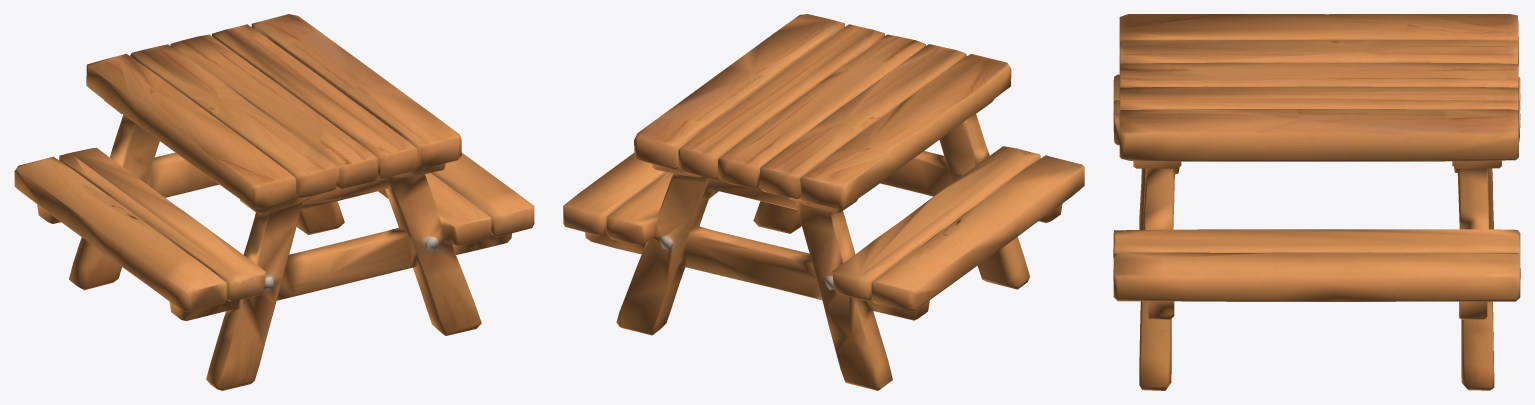
The model's file is picnic.glb.
3 renders of one model, left to right at view 1: azimuth 30°, elevation 25°; view 2: azimuth 150°, elevation 25°; view 3: azimuth 270°, elevation 25°, orthographic. The views are drawn at different scales.
Visible parts, largest first — view 1: model; view 2: model; view 3: model.
Boxes of the visible parts, box(x1,y1,x2,y2) form: model: box(14, 14, 534, 390); model: box(563, 14, 1084, 390); model: box(1113, 14, 1520, 390).
Bounding box in the file's own units: 1.88 × 1.06 × 1.6.
1 material, 1 textured.
